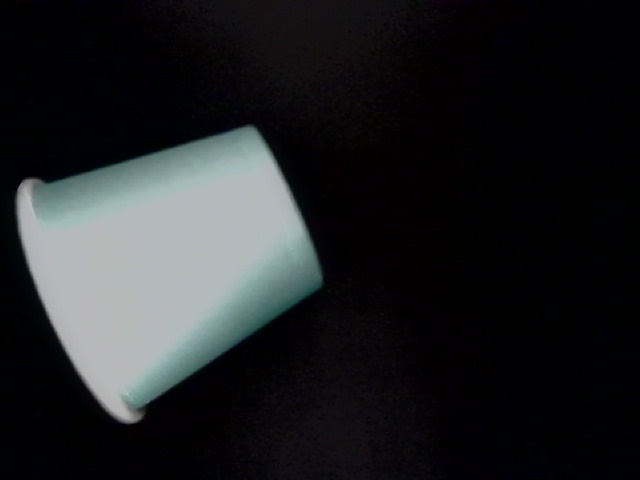KHSLJ: (101, 278, 418, 480)
